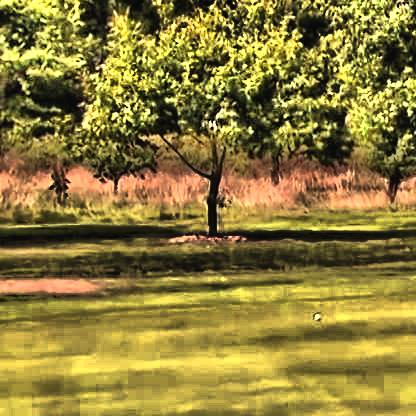golfball: (310, 309, 317, 319)
